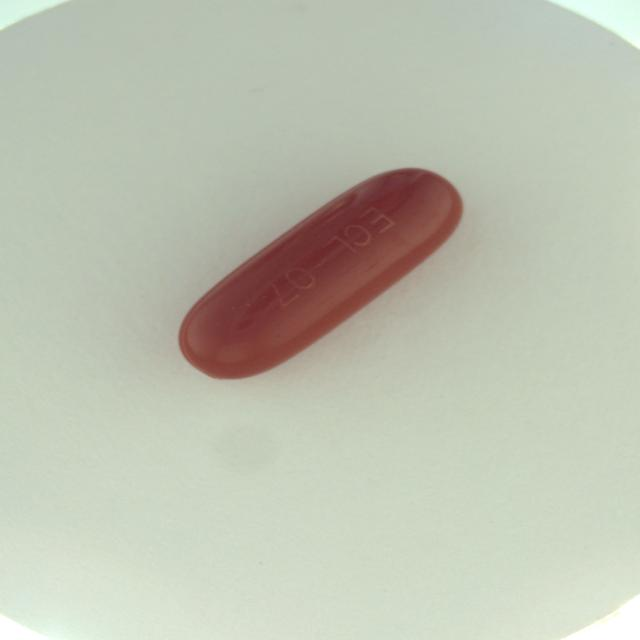Oval: (177, 166, 462, 384)
